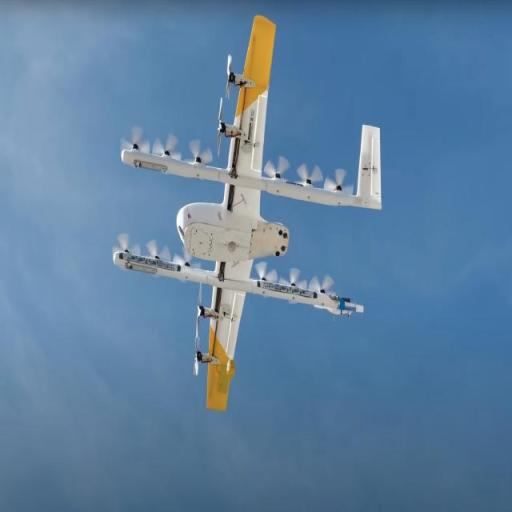uav: (104, 4, 384, 416)
